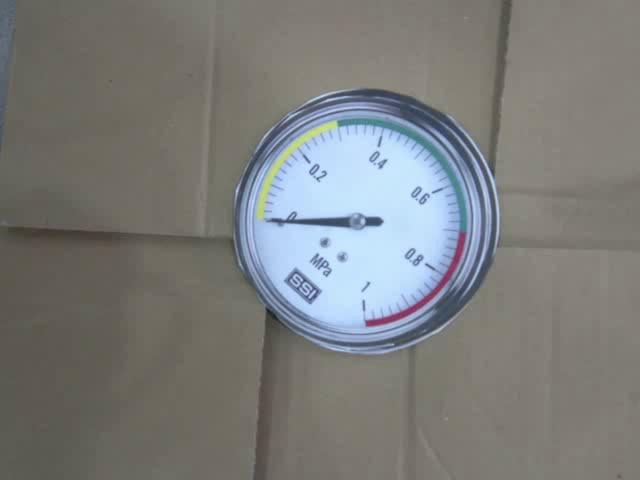Dashboard: (230, 87, 501, 358)
ssi: (280, 265, 322, 306)
